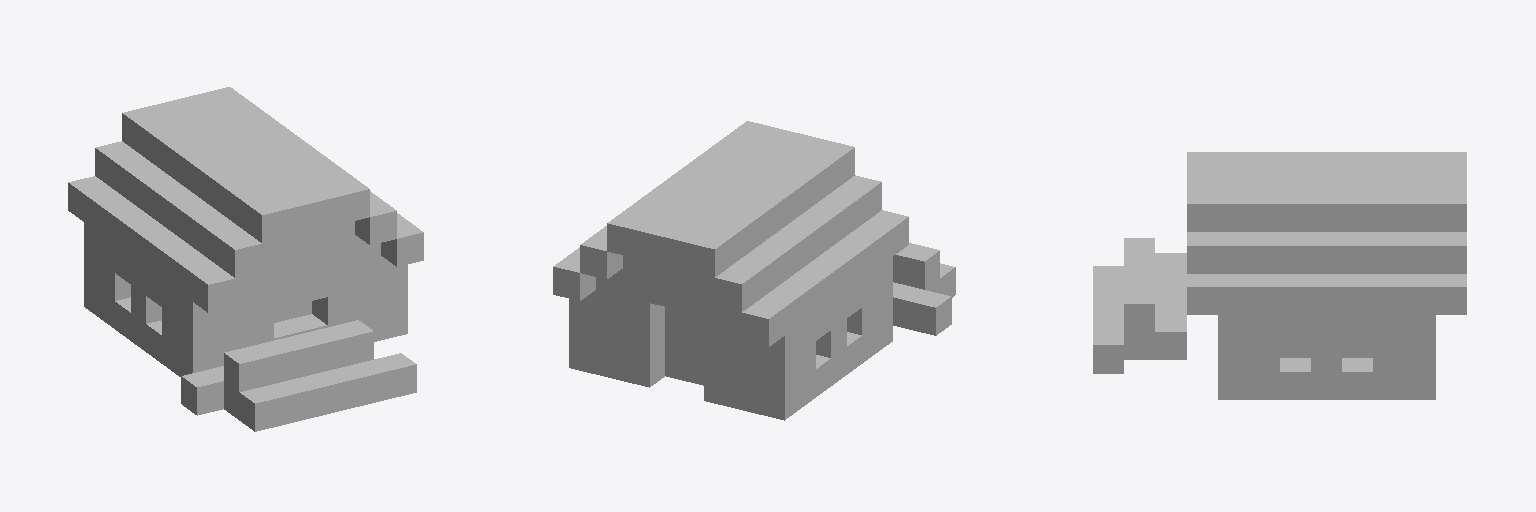
The model's file is civ_woodhouse.obj.
3 views of the same model, side by side, from view 1: azimuth 30°, elevation 25°; view 2: azimuth 150°, elevation 25°; view 3: azimuth 270°, elevation 25° (orthographic).
Parts seen in each view (by area): view 1: mergedBlocks; view 2: mergedBlocks; view 3: mergedBlocks.
Boxes of the visible parts, <box> form: mergedBlocks: <box>68,87,423,431</box>; mergedBlocks: <box>553,121,955,420</box>; mergedBlocks: <box>1093,152,1466,399</box>.
Bounding box in the file's own units: 0.5625 × 0.375 × 0.75.